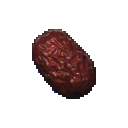gd: (15, 20, 115, 128)
